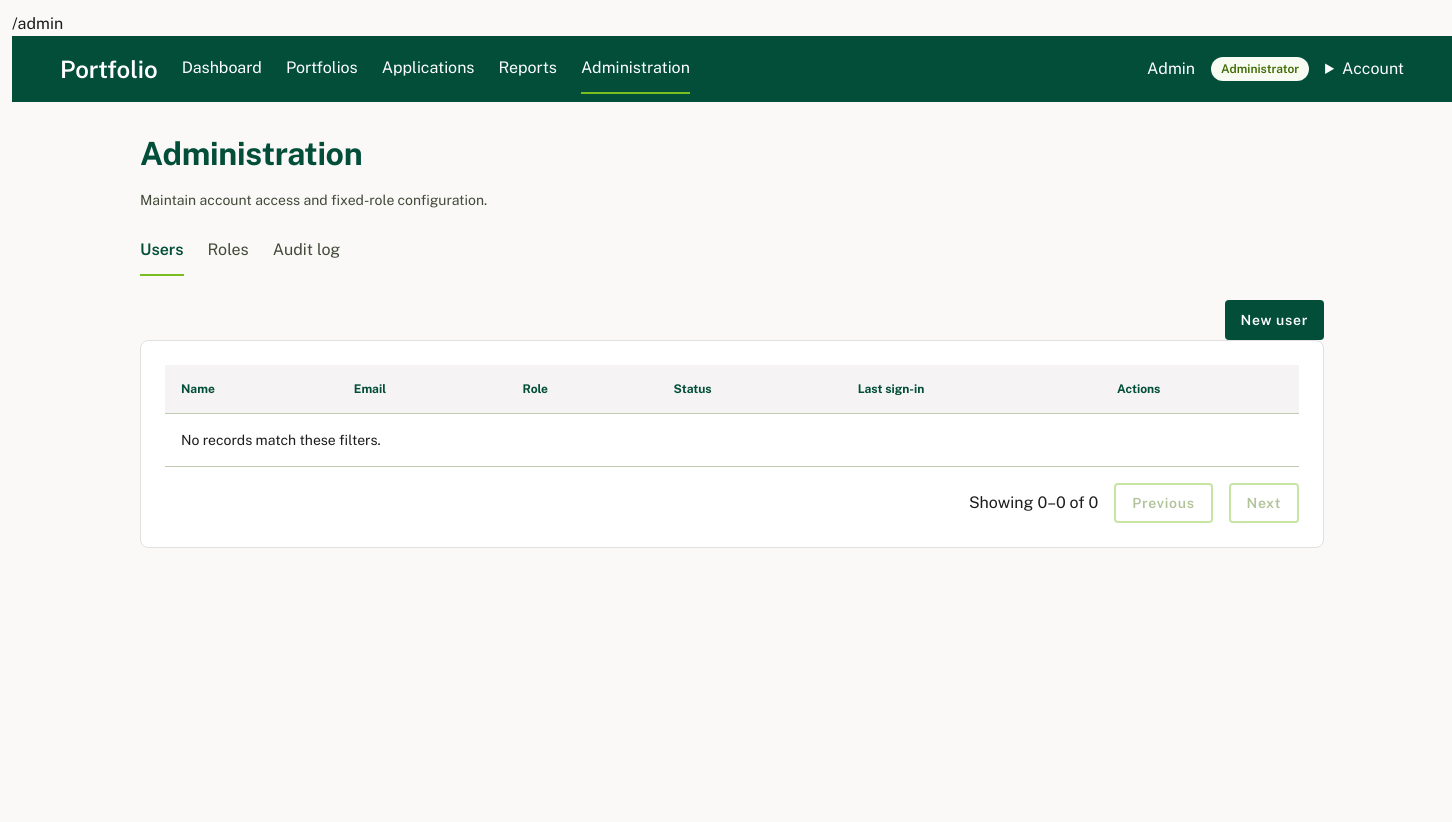
Test: opens admin Audit log tab by a link and renders all prescribed columns and stored facts
Step 1. Click the link "Audit log" → click(306, 250), box [273,240,340,259]
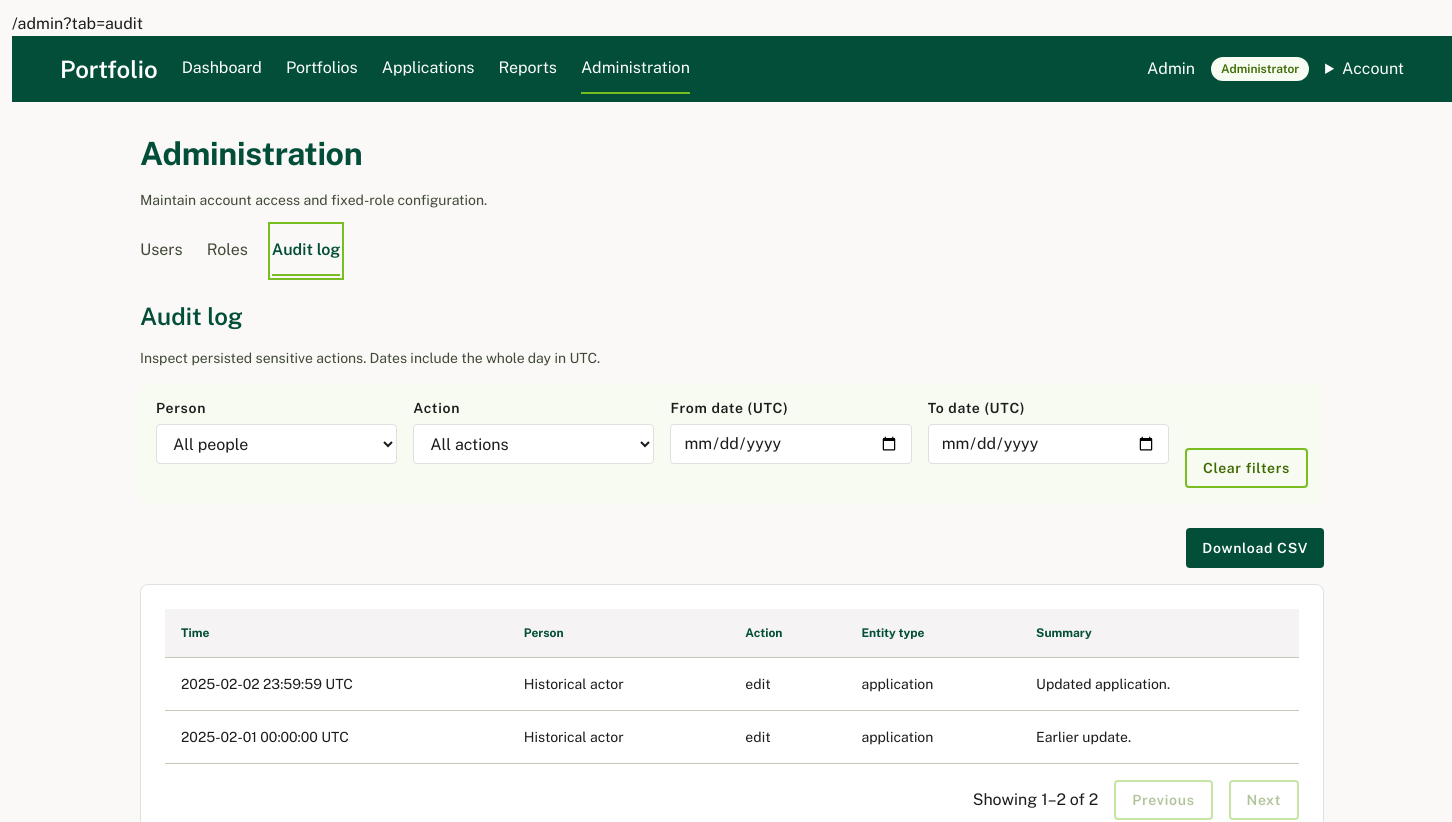
Expected: the column headings read "Time", "Person", "Action", "Entity type", "Summary", in this order, [165,609,508,658]; [508,609,729,658]; [729,609,845,658]; [846,609,1020,658]; [1020,609,1299,658]
Expected: the row that starts with "2025-02-02 23:59:59 UTC" reads "2025-02-02 23:59:59 UTC Historical actor edit application Updated application.", [165,658,1299,710]
Expected: the text named "Current route" reads "/admin?tab=audit", [12,14,143,33]
